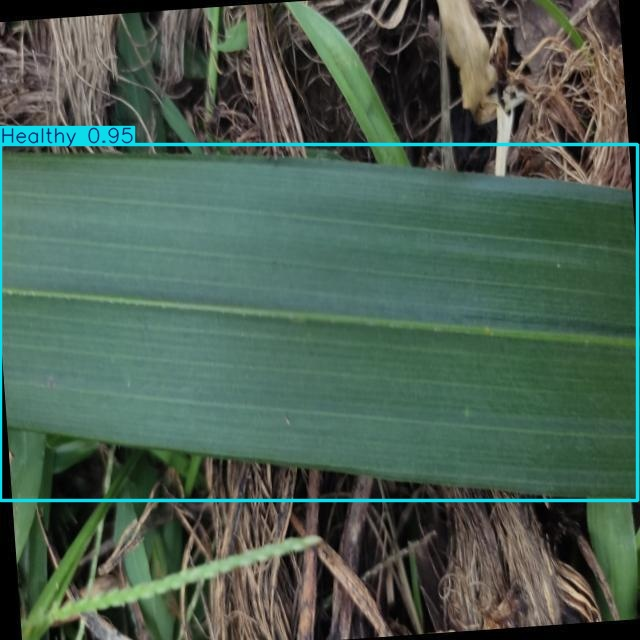Healthy: (0, 144, 638, 501)
